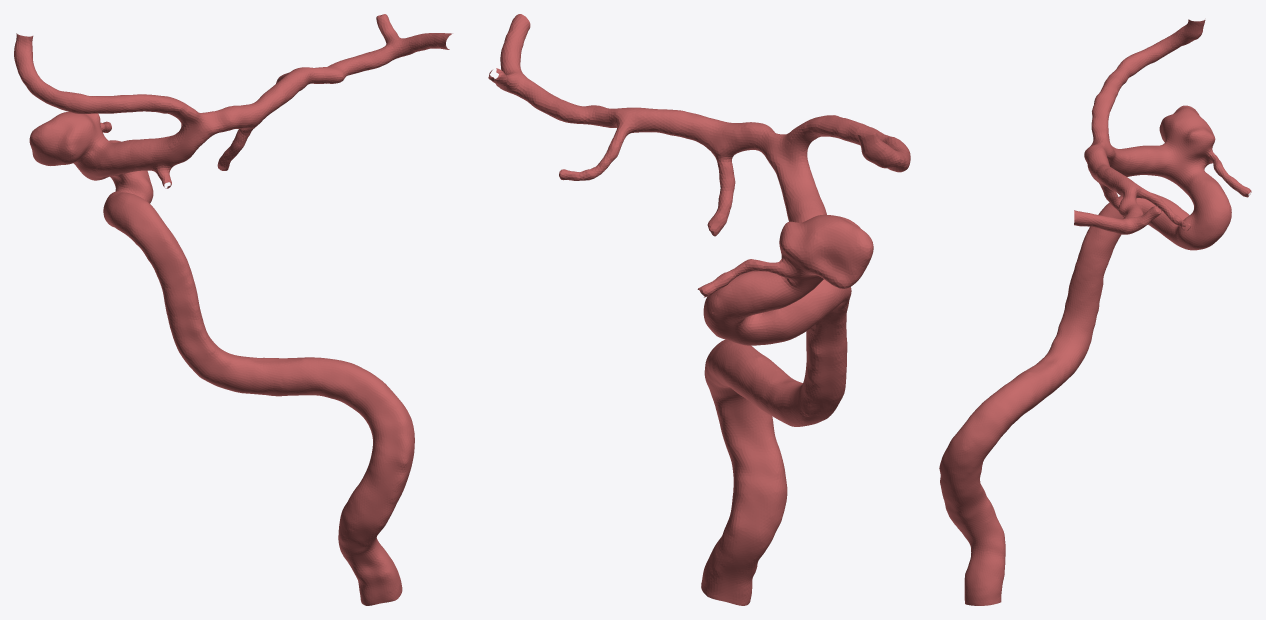
Rendered from vessel_tree.glb.
The picture shows the model from 3 angles, left to right: view 1: azimuth 30°, elevation 25°; view 2: azimuth 150°, elevation 25°; view 3: azimuth 270°, elevation 25°; orthographic projection. The views are drawn at different scales.
Parts seen in each view (by area): view 1: world; view 2: world; view 3: world.
Boxes of the visible parts, bbox=[...] form: world: bbox=[14, 14, 452, 605]; world: bbox=[488, 14, 910, 605]; world: bbox=[939, 19, 1251, 605].
Bounding box in the file's own units: 43.87 × 58.86 × 34.3.
